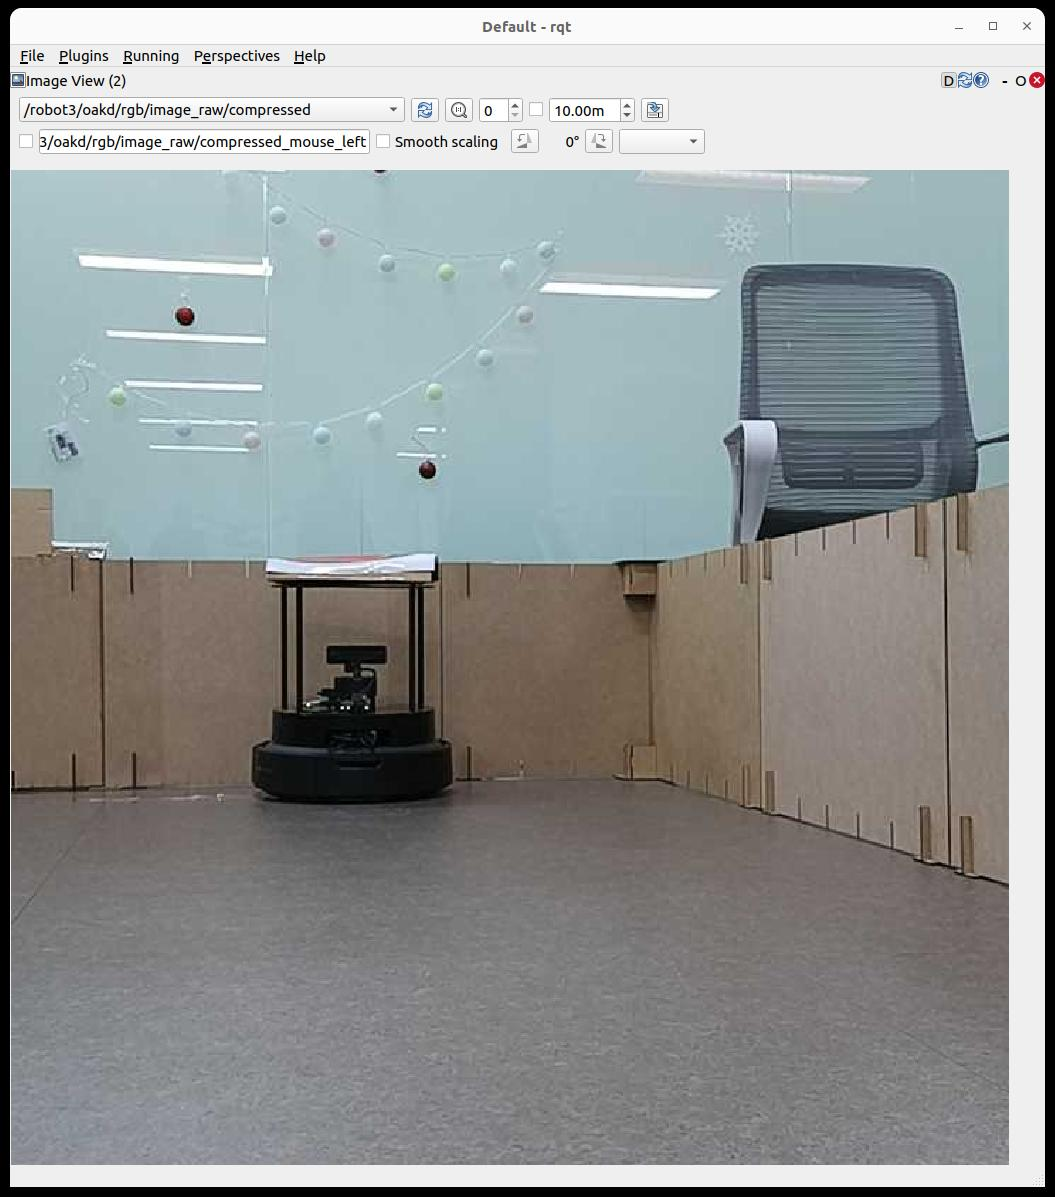AED: (265, 553, 437, 584)
Robot: (253, 584, 452, 802)
